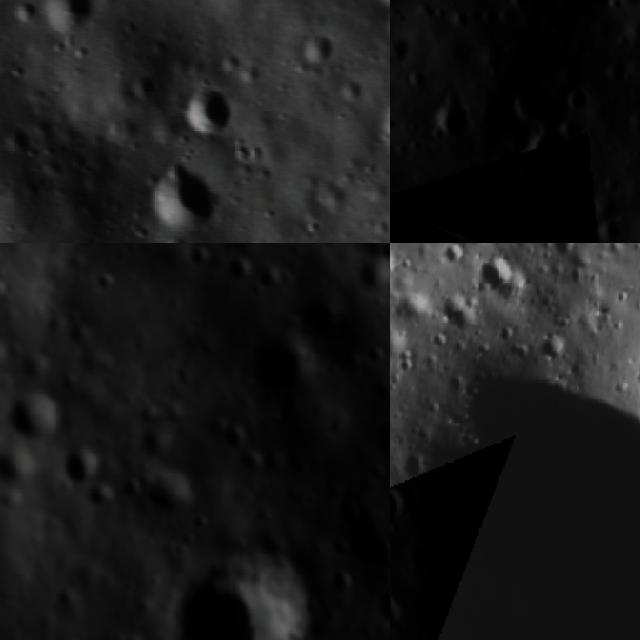crater: (171, 553, 317, 640), (496, 113, 588, 200), (148, 152, 208, 235), (247, 334, 318, 401), (492, 66, 559, 127), (426, 89, 484, 147), (5, 390, 68, 440), (144, 465, 202, 516), (298, 289, 352, 338), (485, 201, 547, 243), (469, 249, 520, 295), (66, 442, 110, 485), (183, 87, 226, 130), (390, 0, 409, 90), (45, 0, 99, 31), (390, 472, 416, 533), (256, 260, 292, 301), (237, 442, 274, 480), (538, 328, 577, 362), (370, 405, 390, 470), (355, 259, 390, 296), (330, 494, 364, 532), (303, 32, 337, 65), (362, 538, 390, 578), (220, 413, 251, 448), (330, 568, 358, 602), (226, 251, 256, 282), (390, 326, 415, 363), (371, 581, 390, 628), (119, 473, 146, 505), (390, 190, 410, 233), (131, 74, 158, 101), (390, 598, 408, 629), (547, 243, 581, 253), (379, 243, 390, 262)
